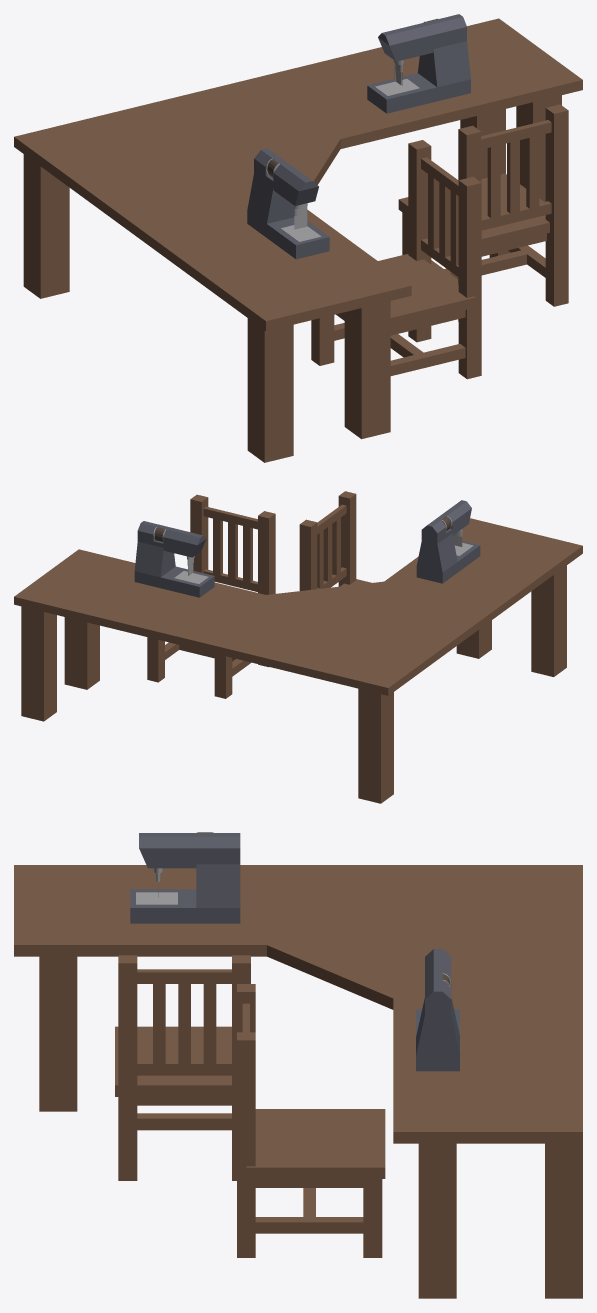
File: tiem-may-ban.glb
3 views of the same model, one above another, from view 1: azimuth 30°, elevation 25°; view 2: azimuth 150°, elevation 25°; view 3: azimuth 270°, elevation 25° (orthographic). The views are drawn at different scales.
Visible parts, largest first — view 1: tiem-may-ban; view 2: tiem-may-ban; view 3: tiem-may-ban.
Boxes of the visible parts, x1,y1,x2,y2 form: tiem-may-ban: [14, 14, 582, 462]; tiem-may-ban: [14, 491, 582, 803]; tiem-may-ban: [14, 832, 582, 1298].
Size of the model in its own units: 10 by 4.47 by 9.
